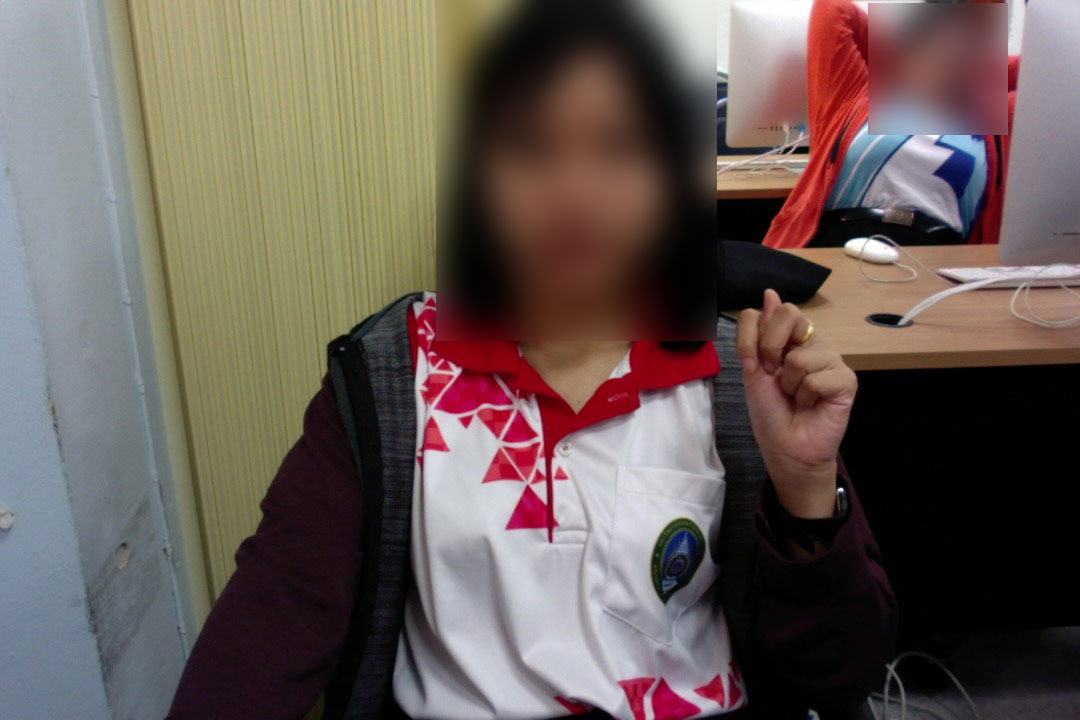tor: (732, 281, 861, 504)
